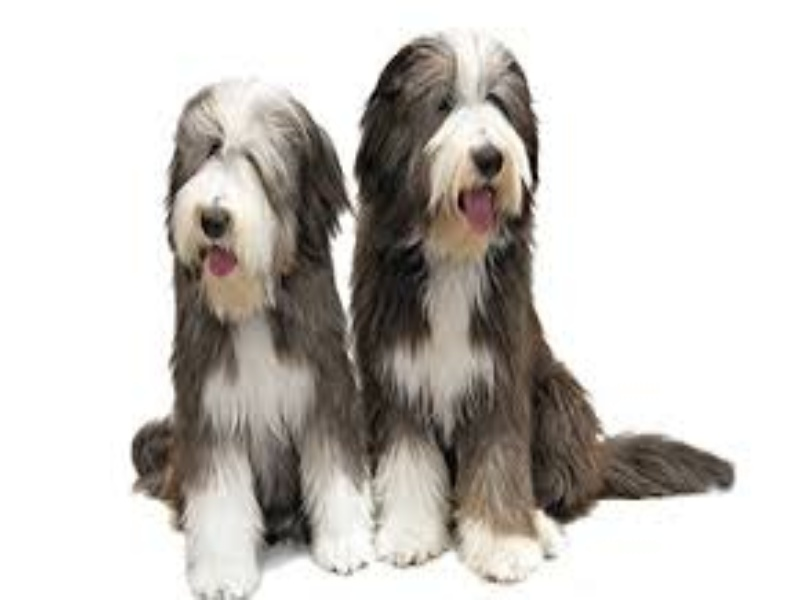dog: (345, 22, 738, 587), (131, 75, 386, 595)
